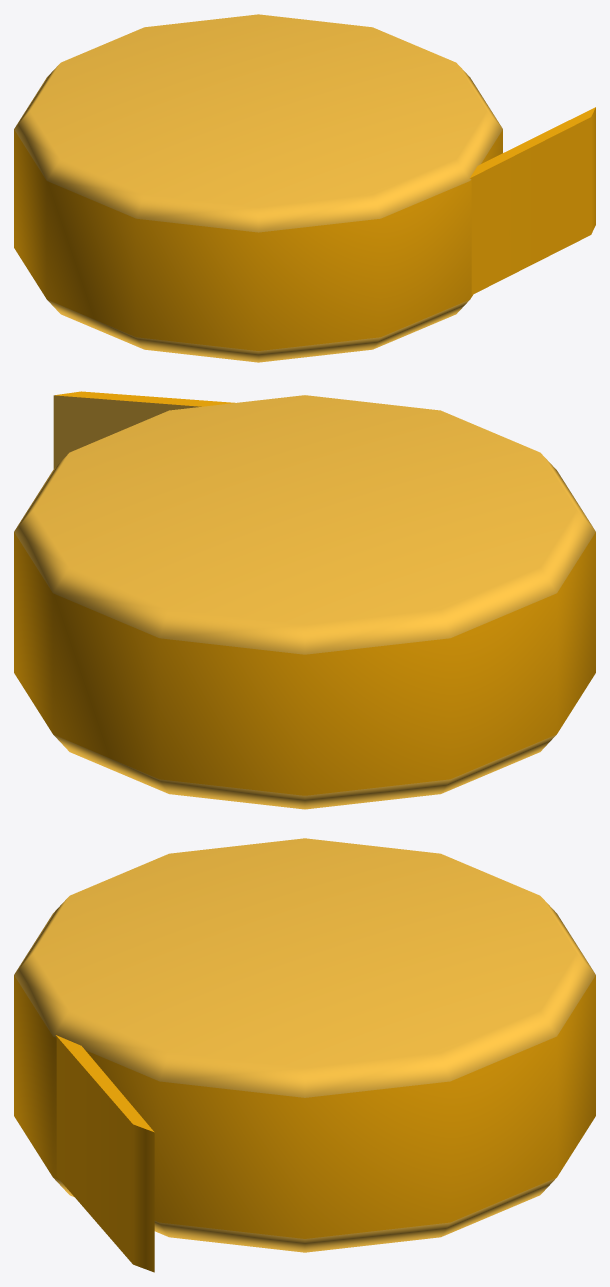
Rendered from stock_cash_bobbin.fbx.
3 views of the same model, one above another, from view 1: azimuth 30°, elevation 25°; view 2: azimuth 150°, elevation 25°; view 3: azimuth 270°, elevation 25° (orthographic). The views are drawn at different scales.
Parts seen in each view (by area): view 1: stock_cash_bobbin; view 2: stock_cash_bobbin; view 3: stock_cash_bobbin.
Part boxes in pixels (x1,y1,x2,y2): stock_cash_bobbin: [14, 14, 595, 362]; stock_cash_bobbin: [14, 391, 595, 809]; stock_cash_bobbin: [14, 838, 595, 1272].
Bounding box in the file's own units: 46.2 × 14.1 × 40.26.
